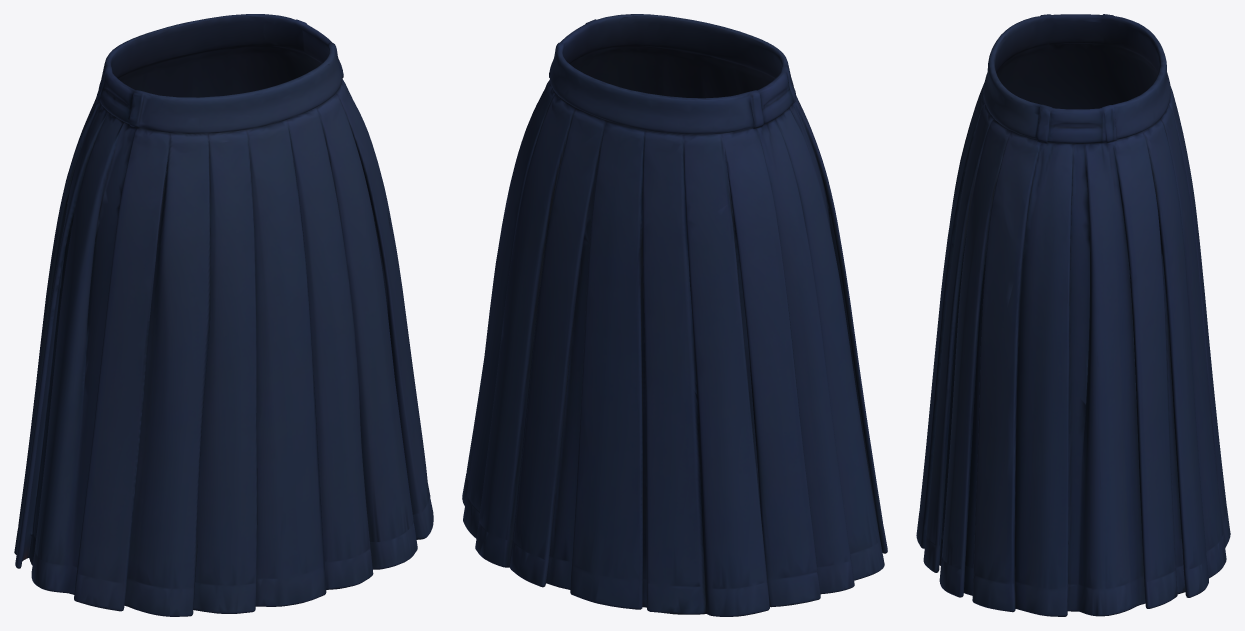
Rendered from school_skirt_v2_50k_full.obj.
The picture shows the model from 3 angles, left to right: view 1: azimuth 30°, elevation 25°; view 2: azimuth 150°, elevation 25°; view 3: azimuth 270°, elevation 25°; orthographic projection. The views are drawn at different scales.
Visible parts, largest first — view 1: node_0; view 2: node_0; view 3: node_0.
Boxes of the visible parts, bbox=[...] form: node_0: bbox=[14, 14, 433, 616]; node_0: bbox=[462, 14, 887, 616]; node_0: bbox=[916, 14, 1230, 616].
Size of the model in its own units: 79.81 by 95.12 by 56.76.
1 material, 1 textured.
